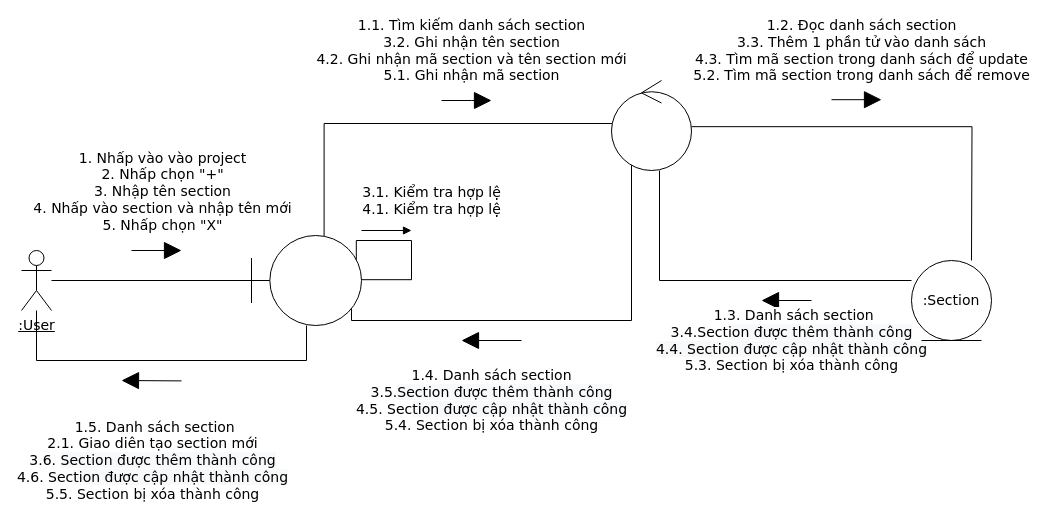
Image size: 1048x520. Some labels were removed from this diagram. Each missing label, with the centre of its shape:
":Section Controller" belongs at point (651, 125).
":Trang MyTask" belongs at point (306, 280).
